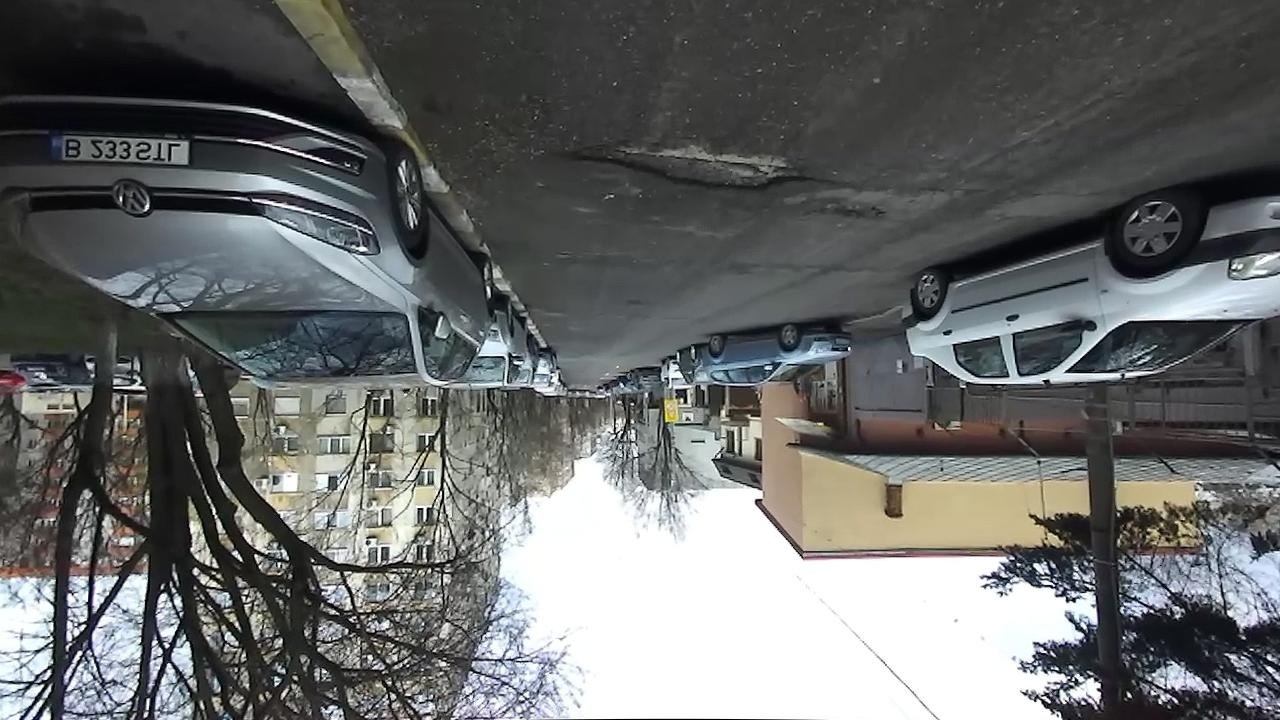pothole: (559, 137, 844, 195), (803, 203, 892, 228)
